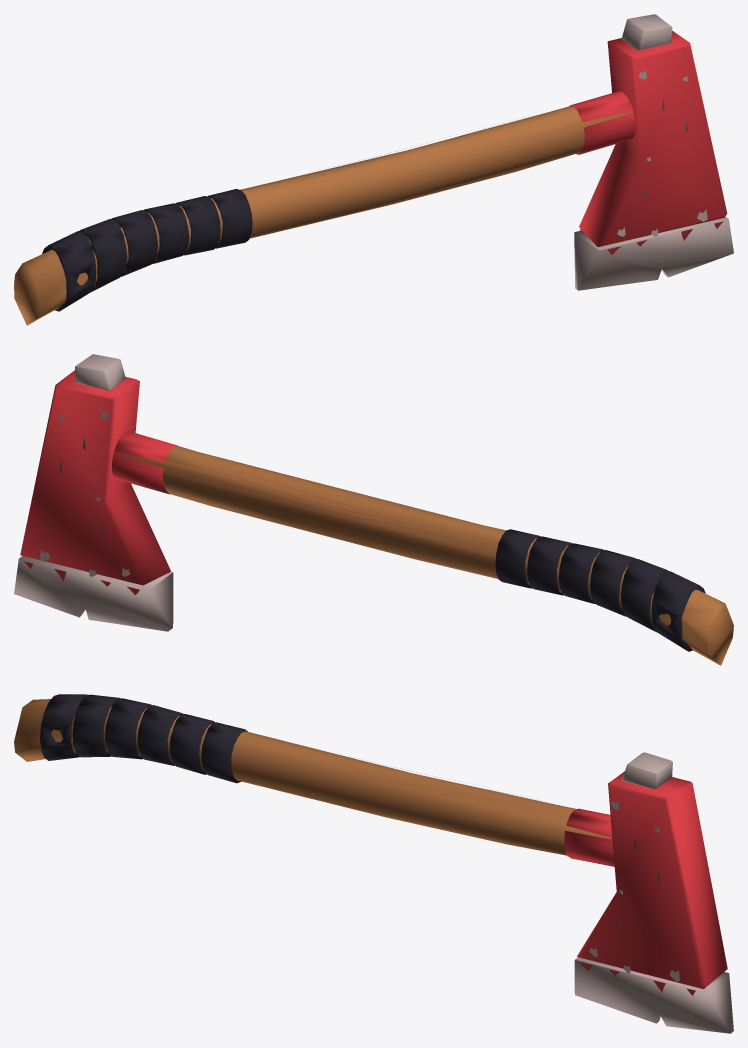
3 renders of one model, top to bottom at view 1: azimuth 30°, elevation 25°; view 2: azimuth 150°, elevation 25°; view 3: azimuth 330°, elevation 25°, orthographic.
Visible parts, largest first — view 1: object 2, body; view 2: object 2, body; view 3: object 2, body.
Part boxes in pixels (<box>): object 2: <box>14,14,733,325</box>; body: <box>569,31,727,254</box>; object 2: <box>14,354,733,665</box>; body: <box>20,370,177,594</box>; object 2: <box>14,694,733,1033</box>; body: <box>564,771,727,995</box>.
Size of the model in its own units: 1.03 by 0.3607 by 0.0727.
